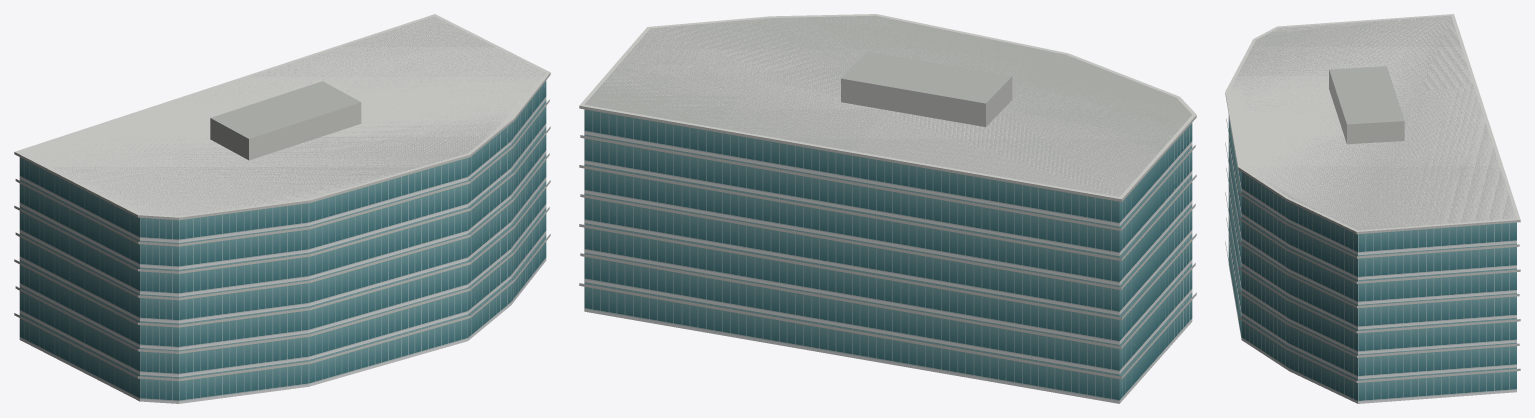
Rendered from qixianggu.glb.
3 views of the same model, side by side, from view 1: azimuth 30°, elevation 25°; view 2: azimuth 150°, elevation 25°; view 3: azimuth 270°, elevation 25° (orthographic). The views are drawn at different scales.
Parts seen in each view (by area): view 1: 气象谷美食城; view 2: 气象谷美食城; view 3: 气象谷美食城.
Boxes of the visible parts, left/top/right/bottom form: 气象谷美食城: left=14, top=14, right=550, bottom=403; 气象谷美食城: left=579, top=14, right=1196, bottom=403; 气象谷美食城: left=1225, top=14, right=1520, bottom=403.
Size of the model in its own units: 70.72 by 29.25 by 40.49.
Materials: 3 (1 with a texture image).
